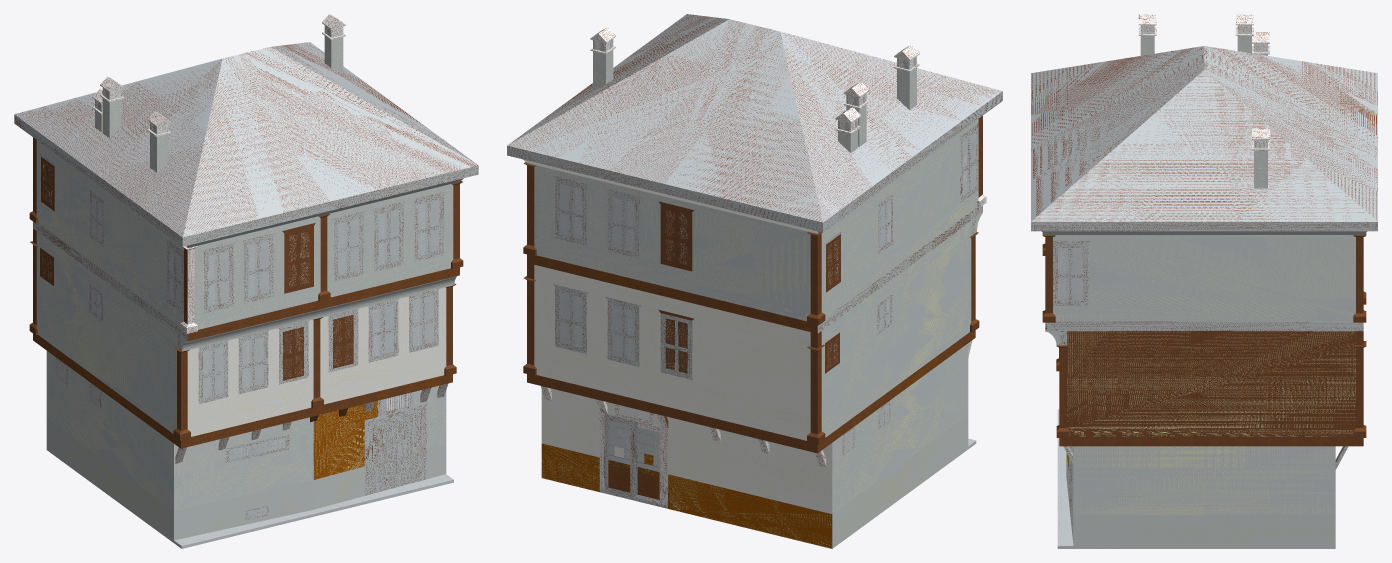
File: asset.glb
3 views of the same model, side by side, from view 1: azimuth 30°, elevation 25°; view 2: azimuth 150°, elevation 25°; view 3: azimuth 270°, elevation 25° (orthographic). The views are drawn at different scales.
Visible parts, largest first — view 1: SketchUp.476, SketchUp.016, SketchUp.216, SketchUp.135, SketchUp.027, SketchUp.025, SketchUp.007, SketchUp.003, SketchUp.132, SketchUp.018, SketchUp.479, SketchUp.318 (+25 smaller); view 2: SketchUp.476, SketchUp.016, SketchUp.216, SketchUp.135, SketchUp.273, SketchUp.007, SketchUp.027, SketchUp.003, SketchUp.134, SketchUp.017, SketchUp.109, SketchUp.122 (+15 smaller); view 3: SketchUp.476, SketchUp.477, SketchUp.216, SketchUp.134, SketchUp.027, SketchUp.001, SketchUp.007, SketchUp.265, SketchUp.327, SketchUp.479, SketchUp.012, SketchUp.002 (+4 smaller).
Boxes of the visible parts, x1,y1,x2,y2 form: SketchUp.476: (14,42,478,237); SketchUp.016: (36,231,456,436); SketchUp.216: (36,140,453,329); SketchUp.135: (46,351,313,510); SketchUp.027: (46,418,446,542); SketchUp.025: (364,392,426,495); SketchUp.007: (14,114,478,246); SketchUp.003: (33,333,452,448); SketchUp.132: (313,400,377,479); SketchUp.018: (187,267,459,341); SketchUp.479: (174,474,453,548); SketchUp.318: (33,221,187,350); SketchUp.476: (507,14,1002,222); SketchUp.016: (534,213,982,440); SketchUp.216: (534,119,978,321); SketchUp.135: (653,343,968,514); SketchUp.273: (668,474,832,548); SketchUp.007: (507,91,1002,232); SketchUp.027: (832,415,968,548); SketchUp.003: (527,330,975,453); SketchUp.134: (541,388,614,457); SketchUp.017: (527,254,817,333); SketchUp.109: (599,404,667,508); SketchUp.122: (541,443,599,491); SketchUp.476: (1031,46,1377,221); SketchUp.477: (1067,331,1355,436); SketchUp.216: (1053,235,1355,321); SketchUp.134: (1072,446,1335,515); SketchUp.027: (1066,452,1335,548); SketchUp.001: (1045,321,1363,345); SketchUp.007: (1031,222,1377,231); SketchUp.265: (1059,437,1363,446); SketchUp.327: (1053,241,1090,305); SketchUp.479: (1057,409,1073,548); SketchUp.012: (1042,231,1366,234); SketchUp.002: (1353,331,1366,437).
Size of the model in its own units: 24.88 by 33 by 24.53.
16 materials, 6 textured.
